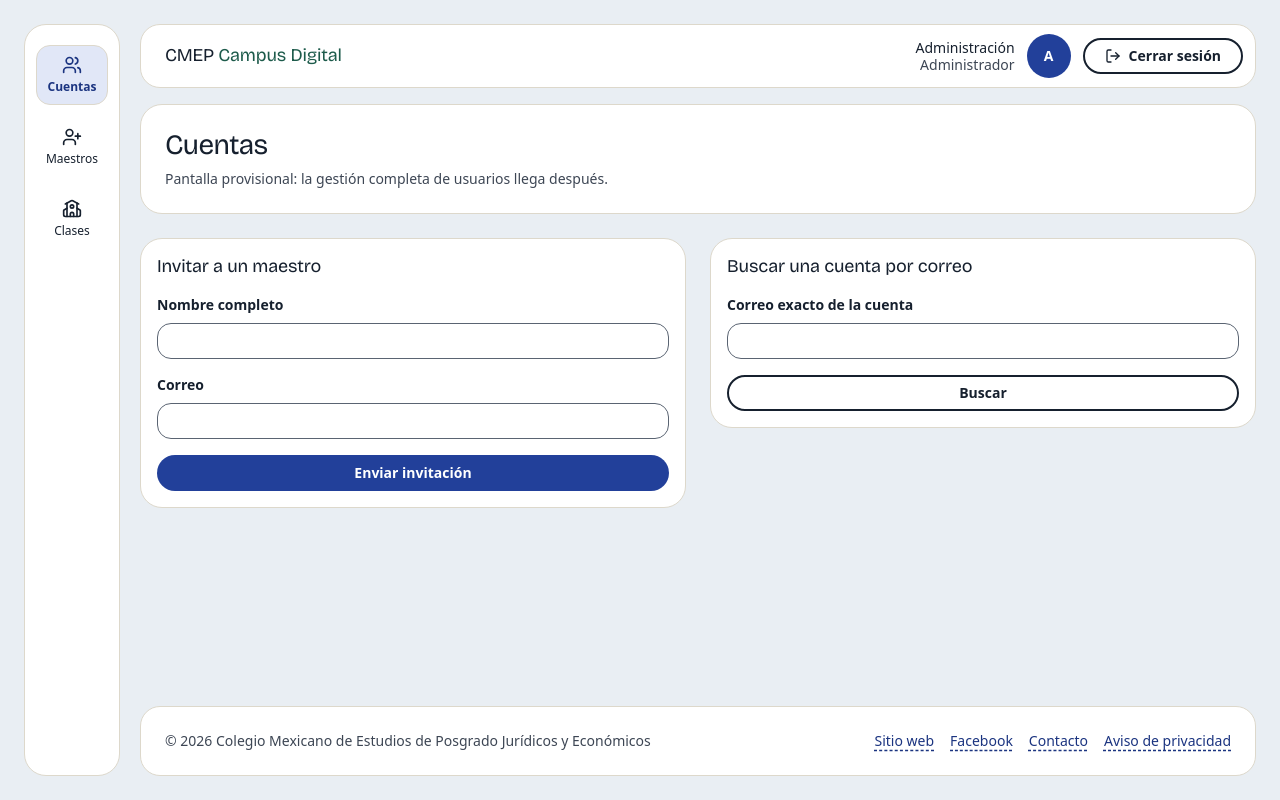
Test: ataque (DESIGN-01b-1 r1): un solo pie al navegar entre pantallas › cerrar sesión desde /admin: nunca dos pies; el de /login ya no es opaco
expect the number of footers is 1: met, box 140,706 -> 1256,776
Click the button "Cerrar sesión".
click(1163, 56)  # box 1083,38 -> 1243,74
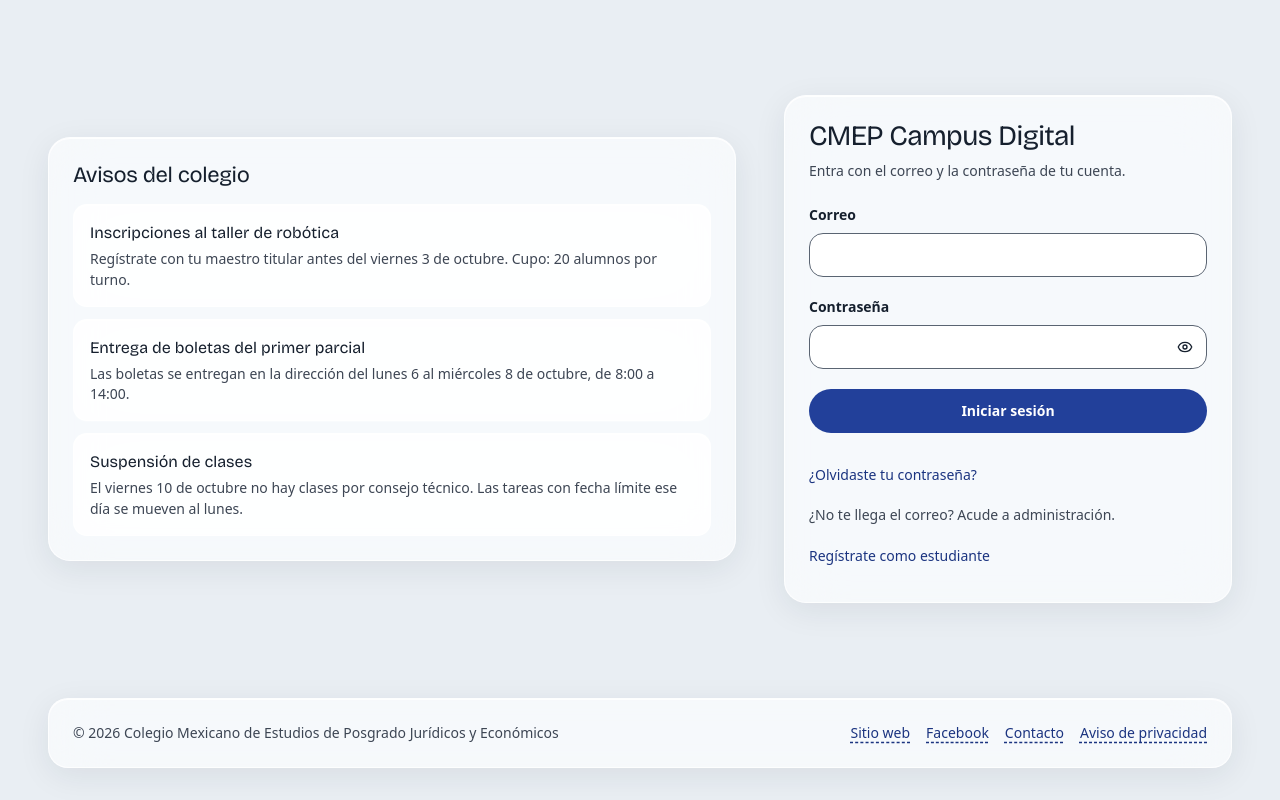
expect the number of footers is 1: met, box 48,698 -> 1232,768
expect the button "Iniciar sesión" is shown: met, box 809,389 -> 1207,433
